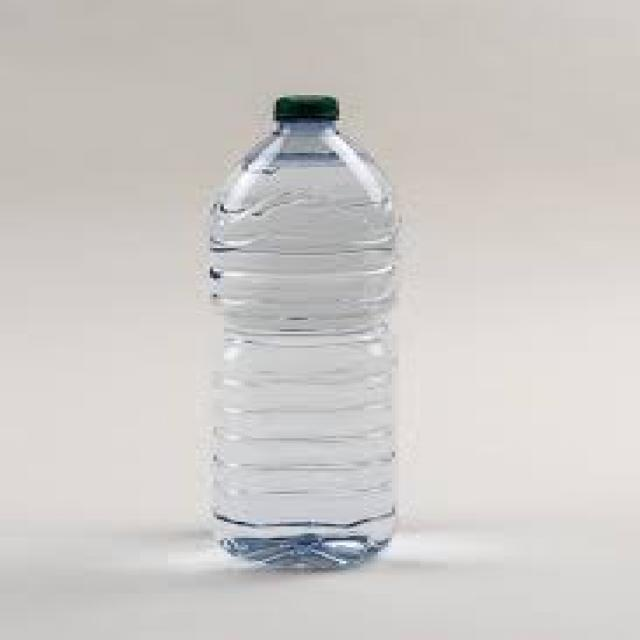Plastic: (212, 92, 406, 578)
